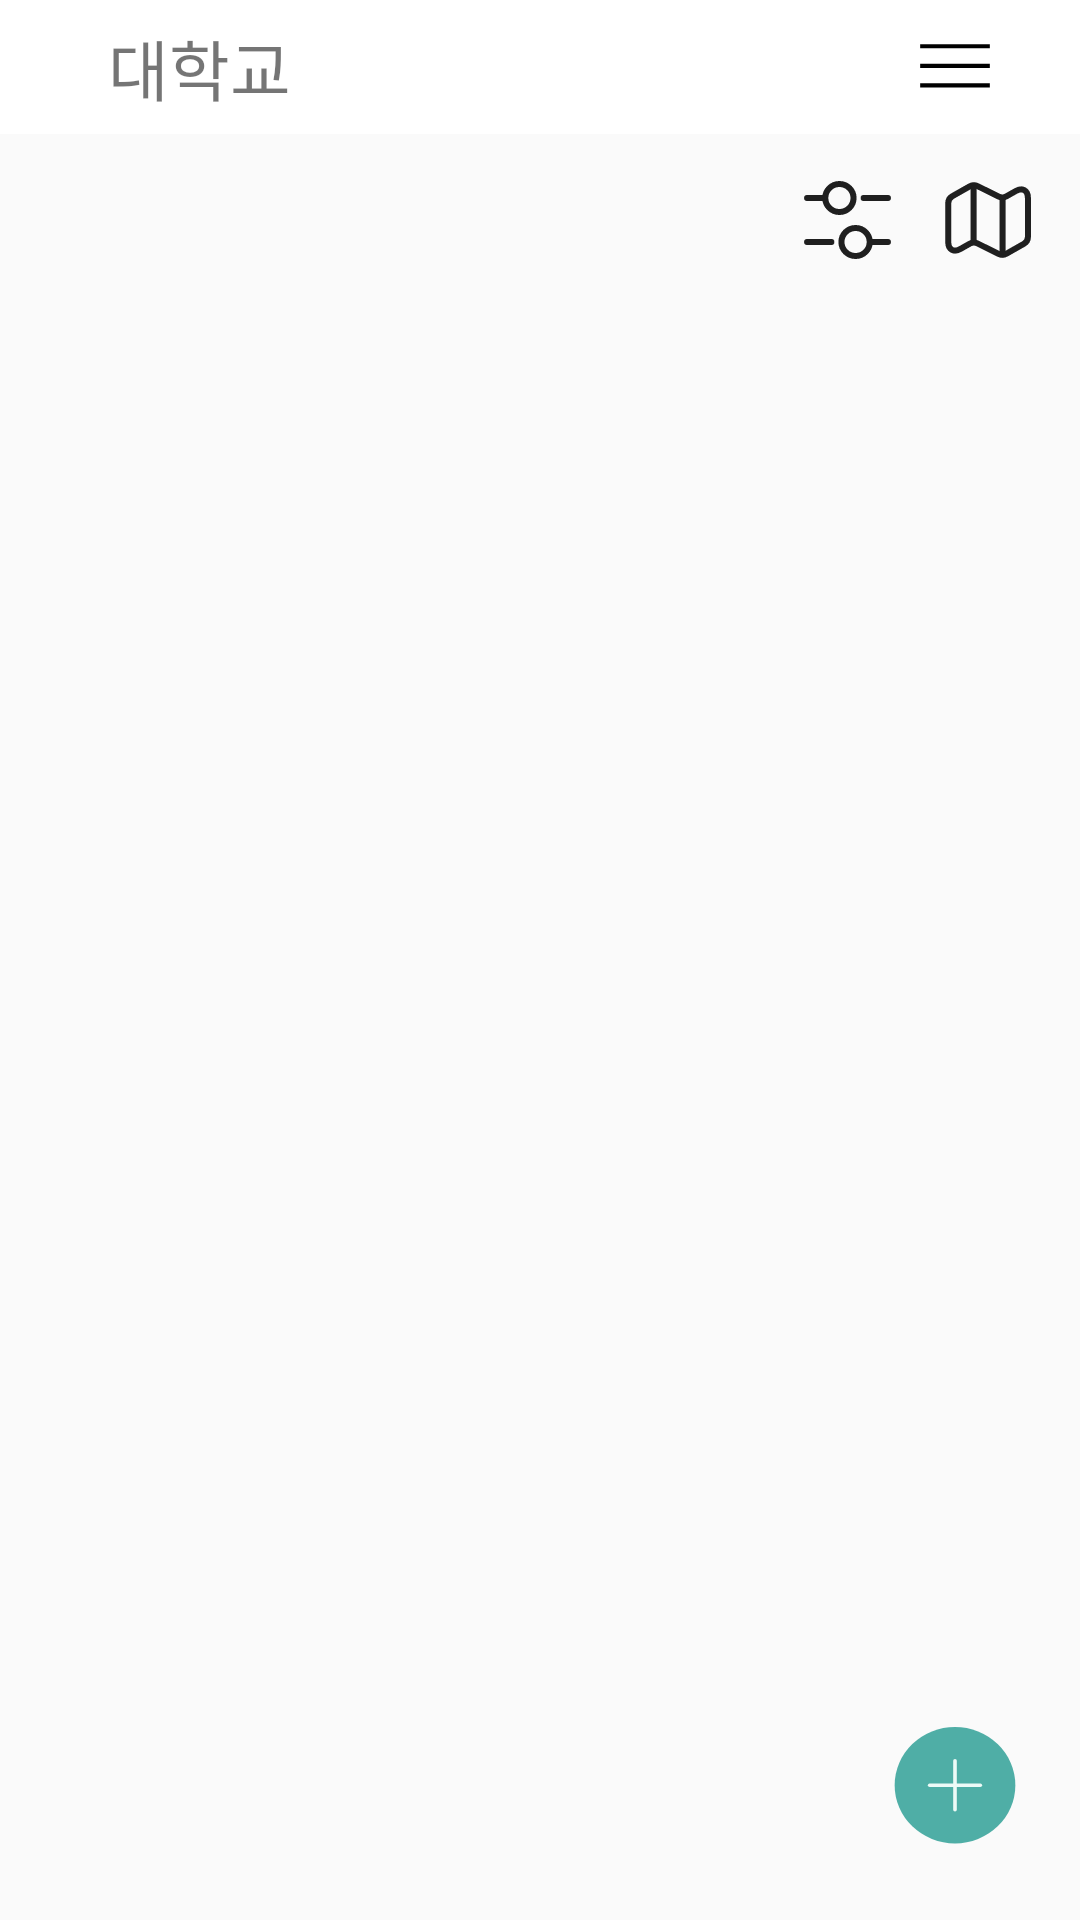

Screen size 1080px x 1920px. Icon name, then its box in pixels as region(x1, y1, x2, y2):
filter: region(804, 181, 891, 259)
map: region(945, 182, 1031, 258)
menu: region(920, 44, 990, 88)
write bt: region(894, 1727, 1016, 1844)
